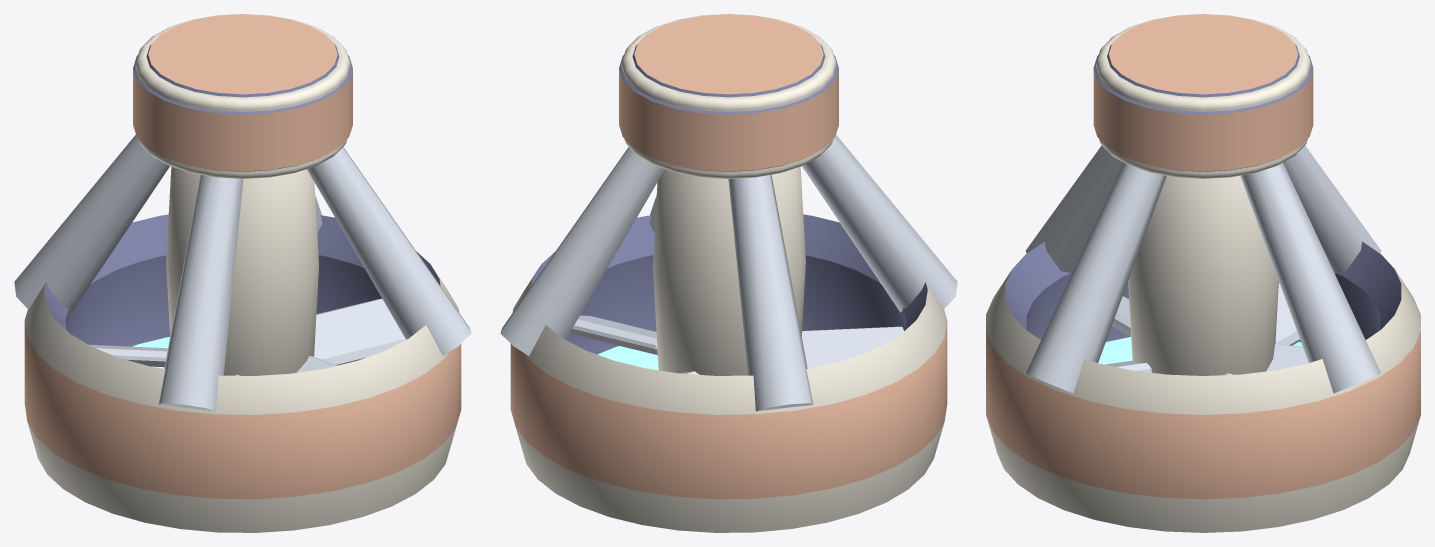
File: R4X_HoverEngine.fbx
The picture shows the model from 3 angles, left to right: view 1: azimuth 30°, elevation 25°; view 2: azimuth 150°, elevation 25°; view 3: azimuth 270°, elevation 25°; orthographic projection.
Parts seen in each view (by area): view 1: R4X_HoverEngine_Body, R4X_HoverEngine_Fan; view 2: R4X_HoverEngine_Body, R4X_HoverEngine_Fan; view 3: R4X_HoverEngine_Body, R4X_HoverEngine_Fan.
Part boxes in pixels (bbox=[...]): R4X_HoverEngine_Body: bbox=[14, 14, 471, 532]; R4X_HoverEngine_Fan: bbox=[89, 298, 405, 375]; R4X_HoverEngine_Body: bbox=[500, 14, 957, 532]; R4X_HoverEngine_Fan: bbox=[569, 315, 903, 374]; R4X_HoverEngine_Body: bbox=[986, 14, 1420, 532]; R4X_HoverEngine_Fan: bbox=[1105, 282, 1308, 375].
Bounding box in the file's own units: 0.516 × 0.52 × 0.5138.
